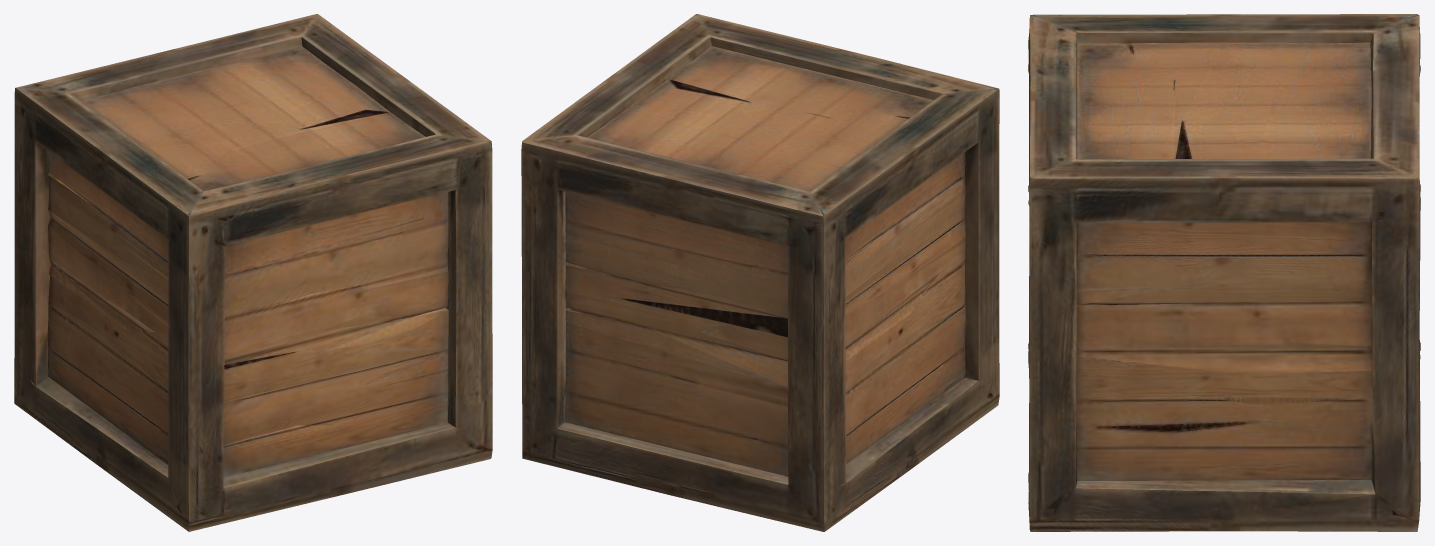
The model's file is p-crate.glb.
3 renders of one model, left to right at view 1: azimuth 30°, elevation 25°; view 2: azimuth 150°, elevation 25°; view 3: azimuth 270°, elevation 25°, orthographic. The views are drawn at different scales.
Bounding box in the file's own units: 1.91 × 1.9 × 1.91.
1 material, 1 textured.
